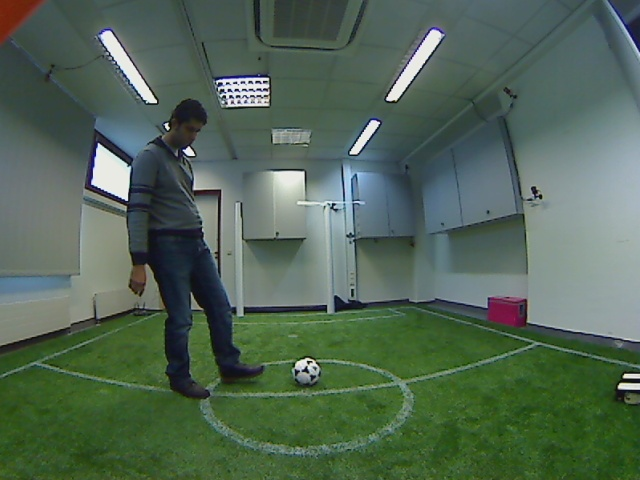ball: (287, 352, 326, 391)
